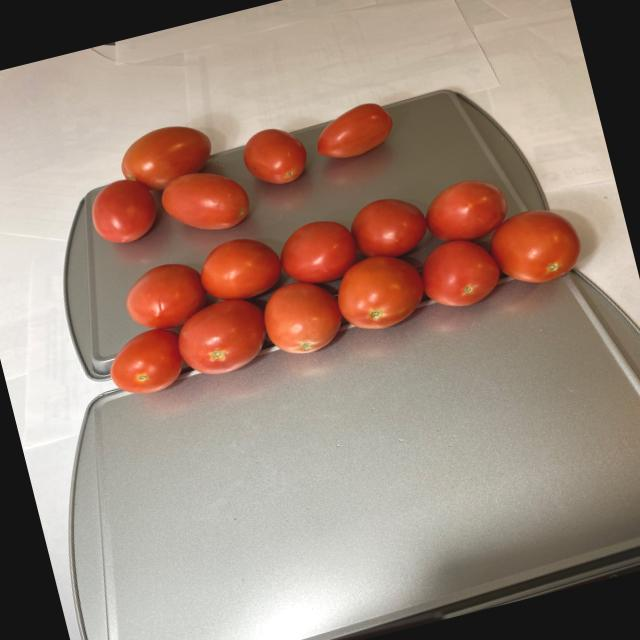tomato: (85, 157, 599, 410), (72, 61, 430, 259)
